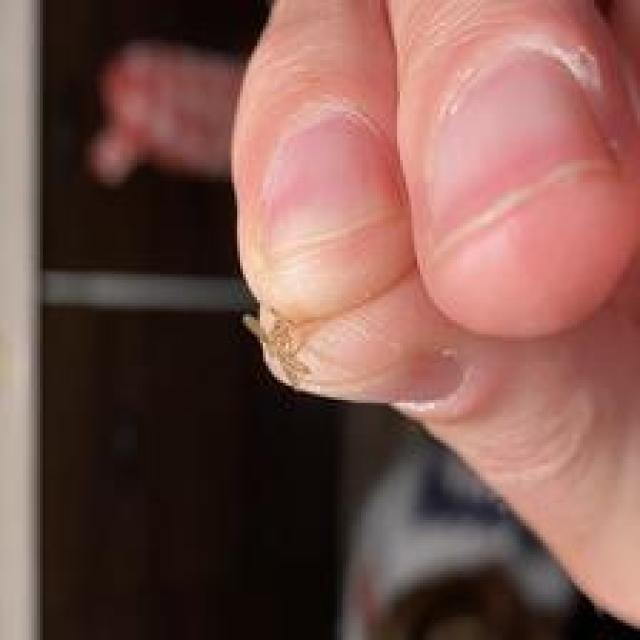Culex: (83, 37, 246, 189)
